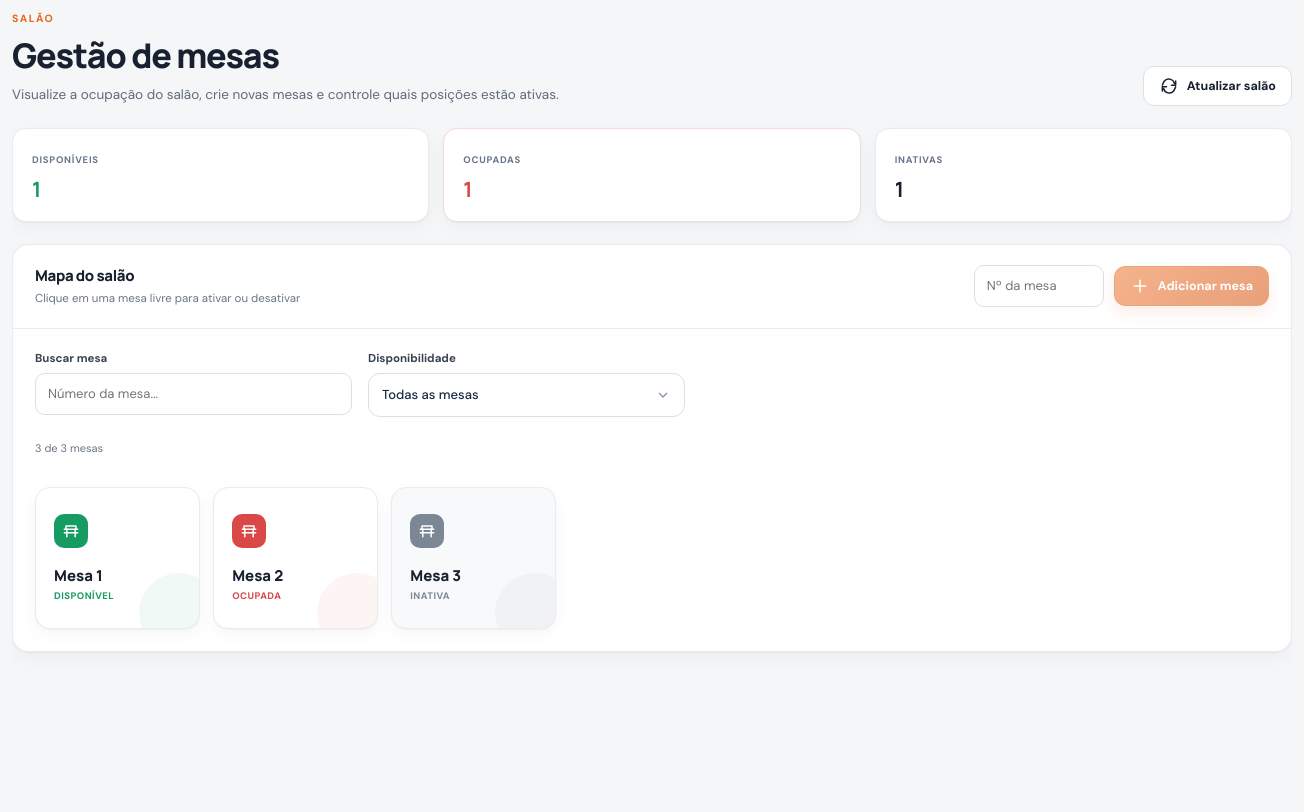
Test: filtros de busca e disponibilidade não alteram o resumo do salão
Expected: the button with aria-label "Mesa 1, disponivel" is shown, [35,487,200,629]
Select "Ocupadas" in the dropdown labelled "Disponibilidade" at (412, 358), box [368,351,456,366]
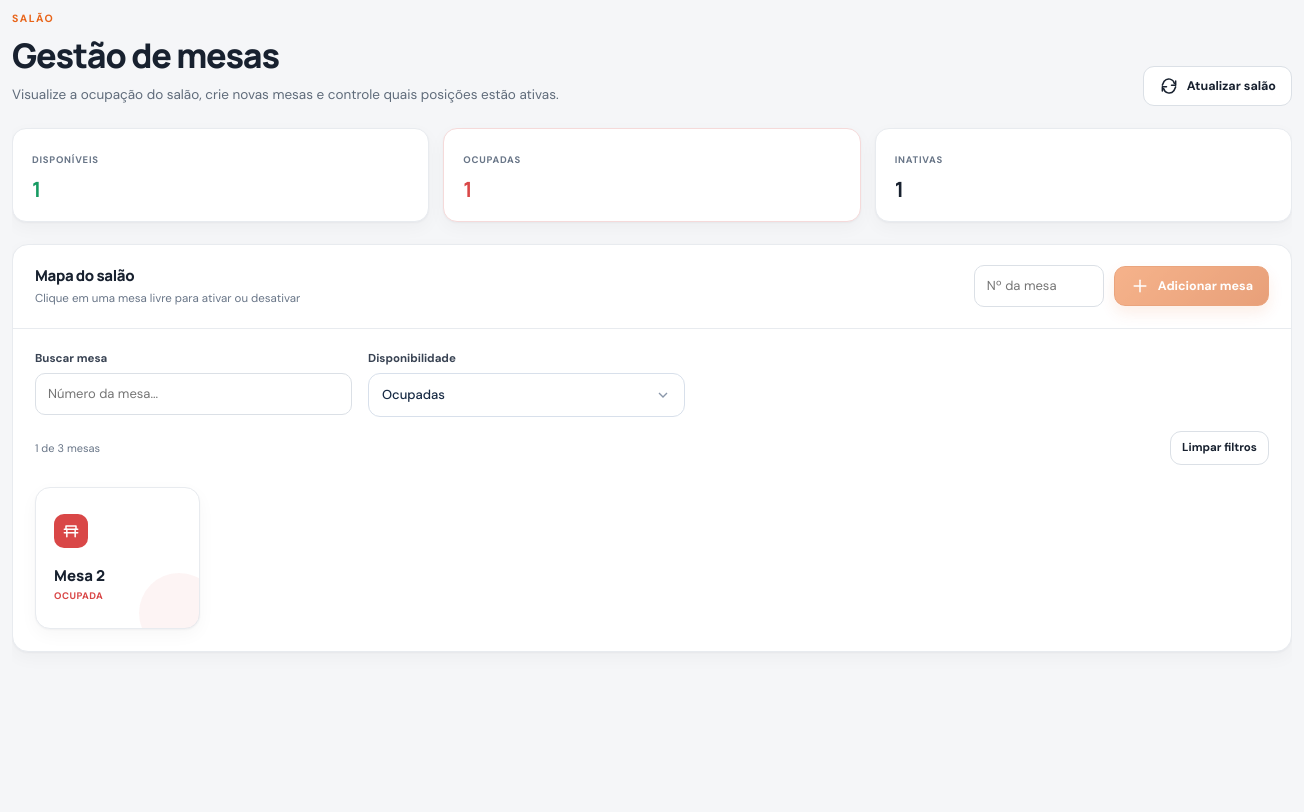
Expected: the button with aria-label "Mesa 2, ocupada" is shown, [35,487,200,629]
Type "99" into the search field labelled "Buscar mesa" at (194, 394), box [35,373,352,415]
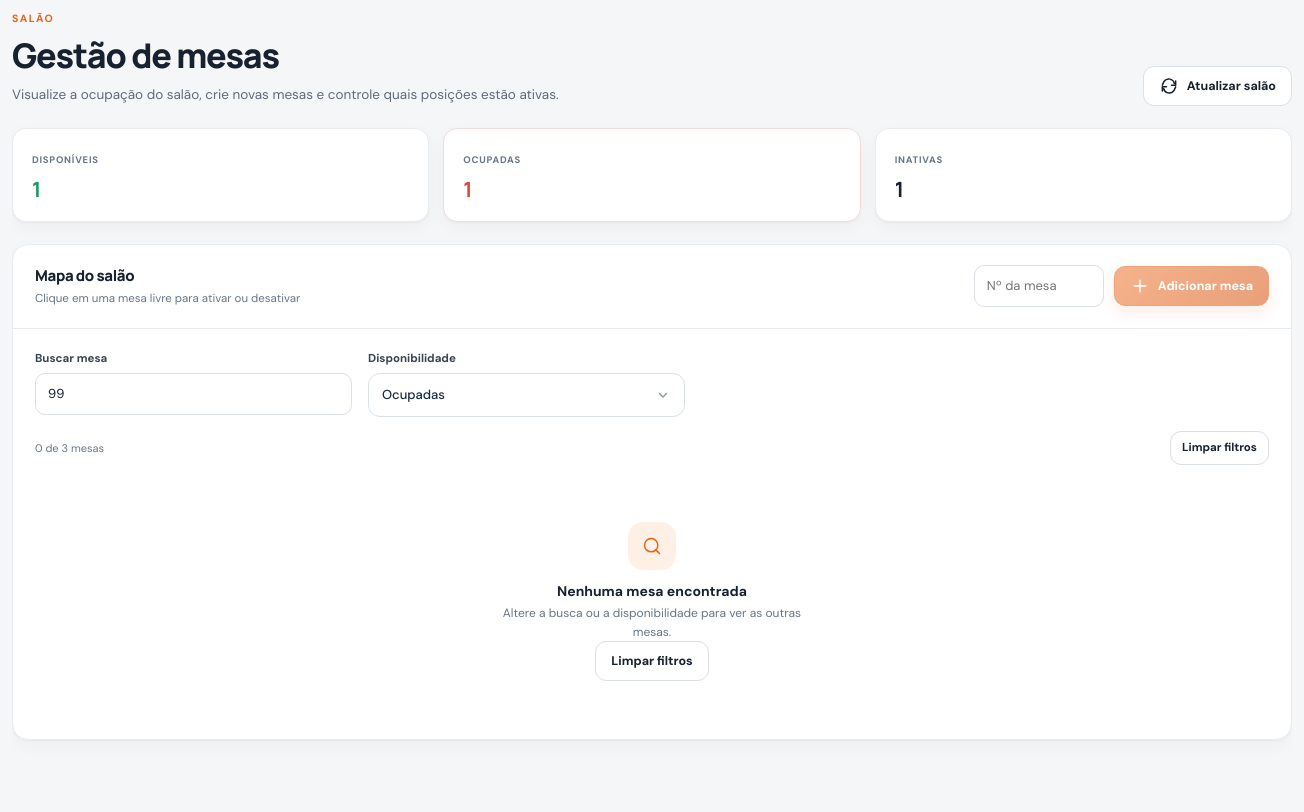
Expected: the text "Nenhuma mesa encontrada" is shown, [557,582,747,600]
Click the 1st button "Limpar filtros" at (1220, 448), box [1170,431,1269,465]
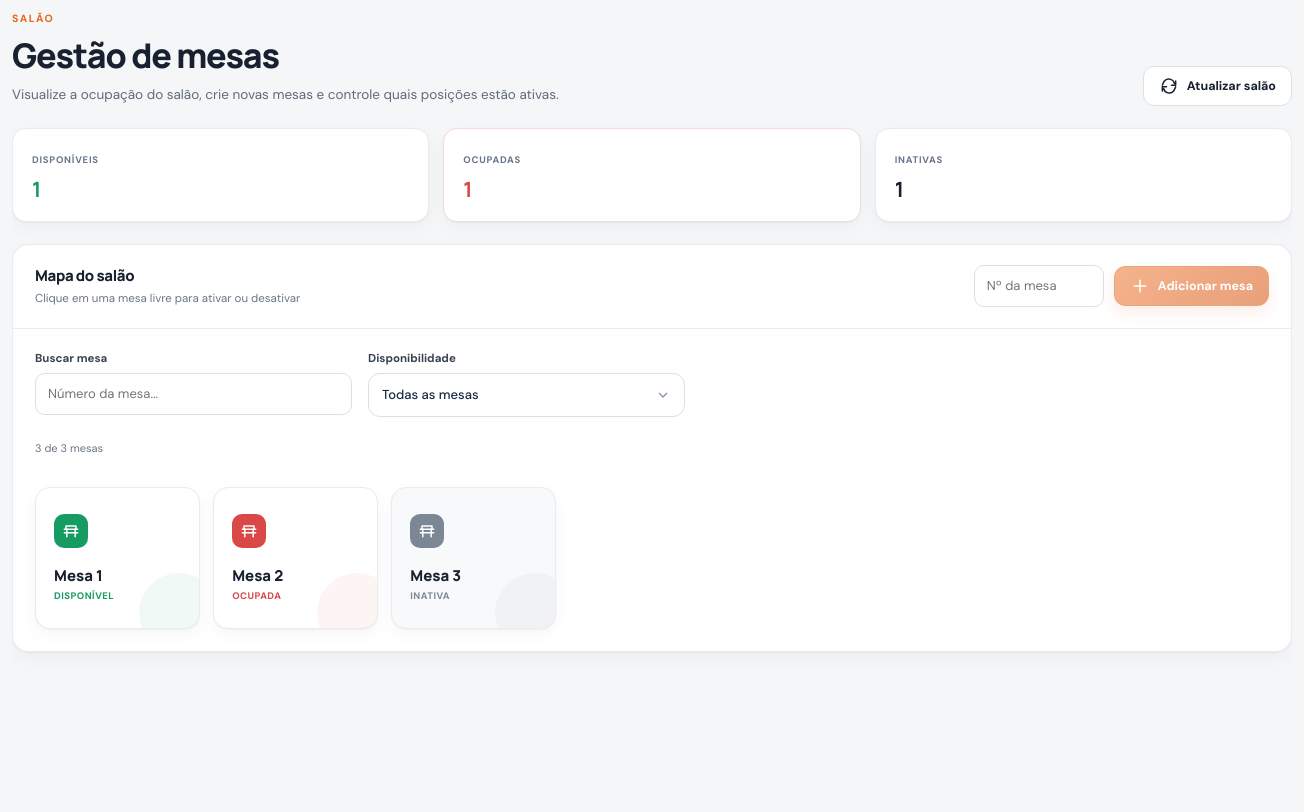
Expected: the button with aria-label "Mesa 3, inativa" is shown, [391,487,556,629]
